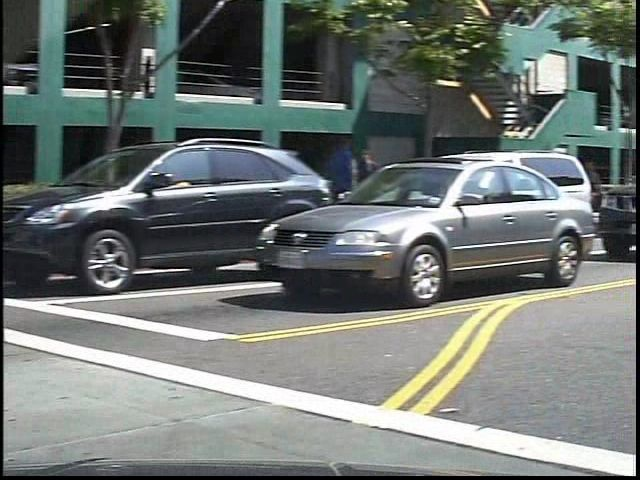person: (337, 130, 382, 241)
